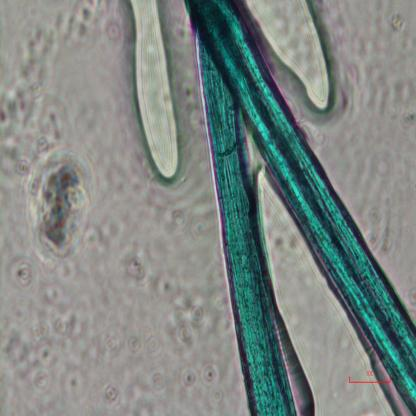Air bubble: (123, 0, 187, 187), (247, 2, 336, 114)
Background material: (0, 0, 104, 148), (22, 138, 99, 266), (0, 307, 96, 392), (350, 59, 416, 121), (172, 288, 212, 328), (270, 229, 299, 259), (13, 256, 37, 292), (99, 330, 122, 361), (154, 275, 178, 299), (128, 254, 147, 283), (169, 207, 188, 233), (102, 382, 120, 408), (201, 363, 220, 387), (181, 366, 198, 391), (389, 12, 408, 32), (106, 21, 121, 42), (178, 325, 193, 342), (129, 333, 141, 354), (149, 336, 161, 353)
Microfibre: (185, 1, 416, 413), (193, 33, 297, 415)
